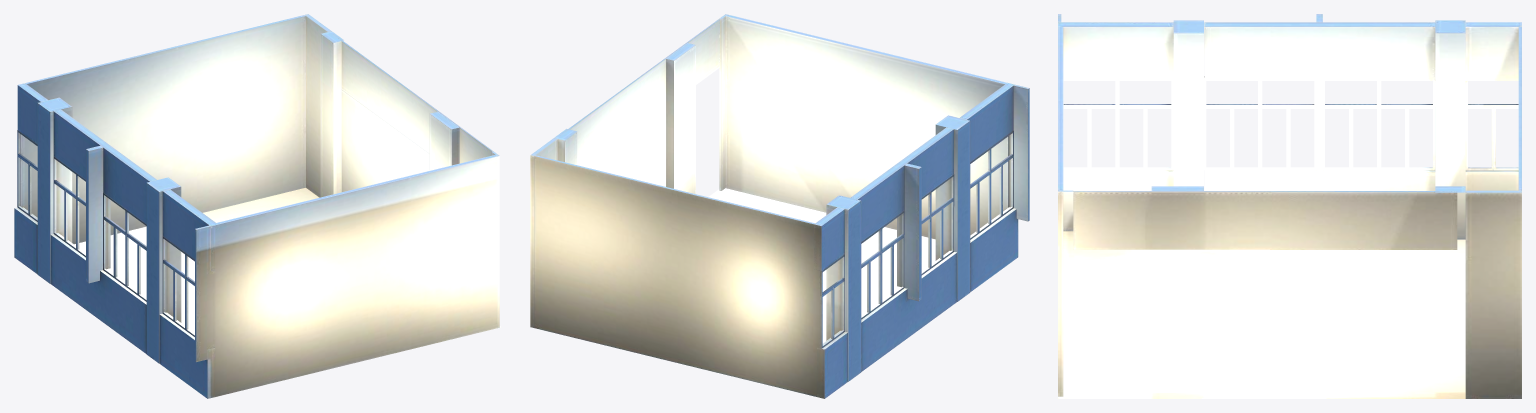
The picture shows the model from 3 angles, left to right: view 1: azimuth 30°, elevation 25°; view 2: azimuth 150°, elevation 25°; view 3: azimuth 270°, elevation 25°; orthographic projection. The views are drawn at different scales.
Parts seen in each view (by area): view 1: hc_1floor_room014_1; view 2: hc_1floor_room014_1; view 3: hc_1floor_room014_1.
Part boxes in pixels (x1,y1,x2,y2): hc_1floor_room014_1: (14, 14, 500, 398); hc_1floor_room014_1: (530, 14, 1029, 398); hc_1floor_room014_1: (1058, 14, 1521, 398).
Size of the model in its own units: 0.9703 by 0.5218 by 1.06.
Materials: 1 (1 with a texture image).
